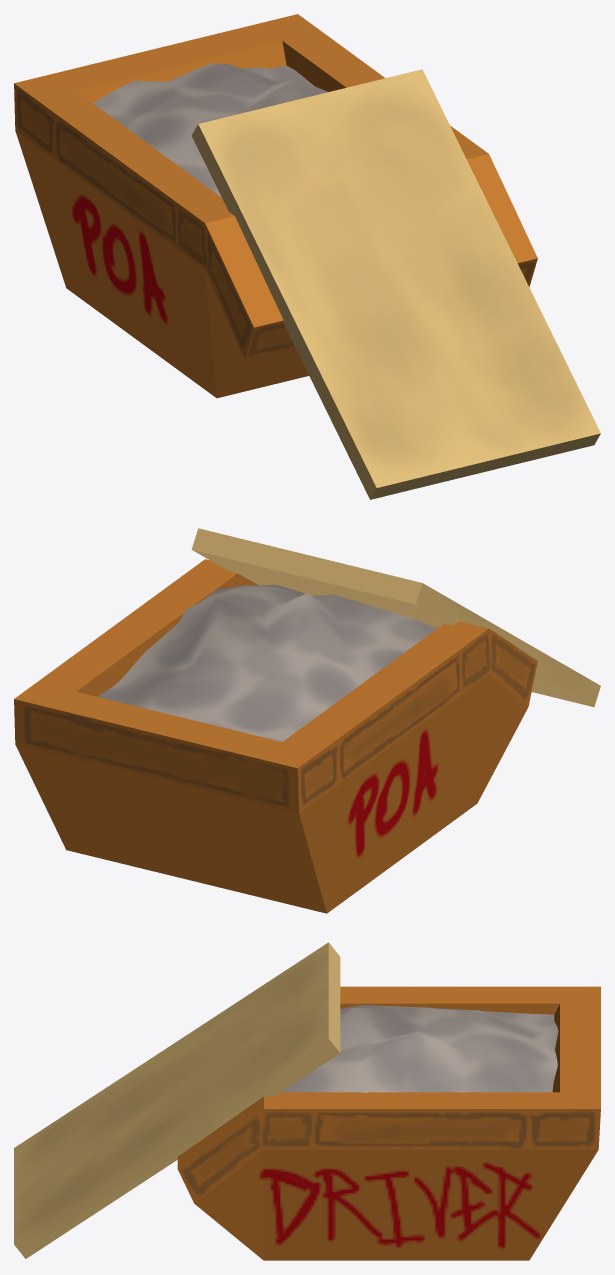
File: Rampa.glb
3 views of the same model, one above another, from view 1: azimuth 30°, elevation 25°; view 2: azimuth 150°, elevation 25°; view 3: azimuth 270°, elevation 25° (orthographic). The views are drawn at different scales.
Parts seen in each view (by area): view 1: Cube; view 2: Cube; view 3: Cube.
Boxes of the visible parts, x1,y1,x2,y2 form: Cube: (14, 14, 600, 499); Cube: (14, 528, 600, 913); Cube: (14, 942, 600, 1260).
Size of the model in its own units: 3.39 by 2.86 by 6.89.
Materials: 1 (1 with a texture image).
